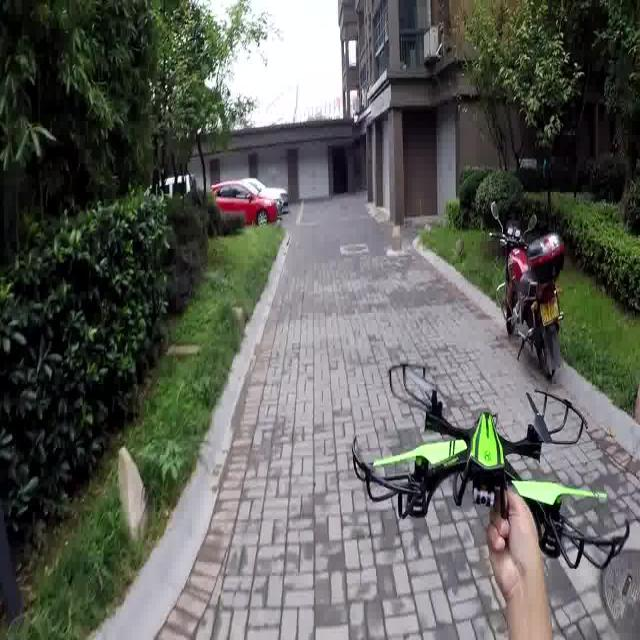drones: (345, 351, 637, 579)
